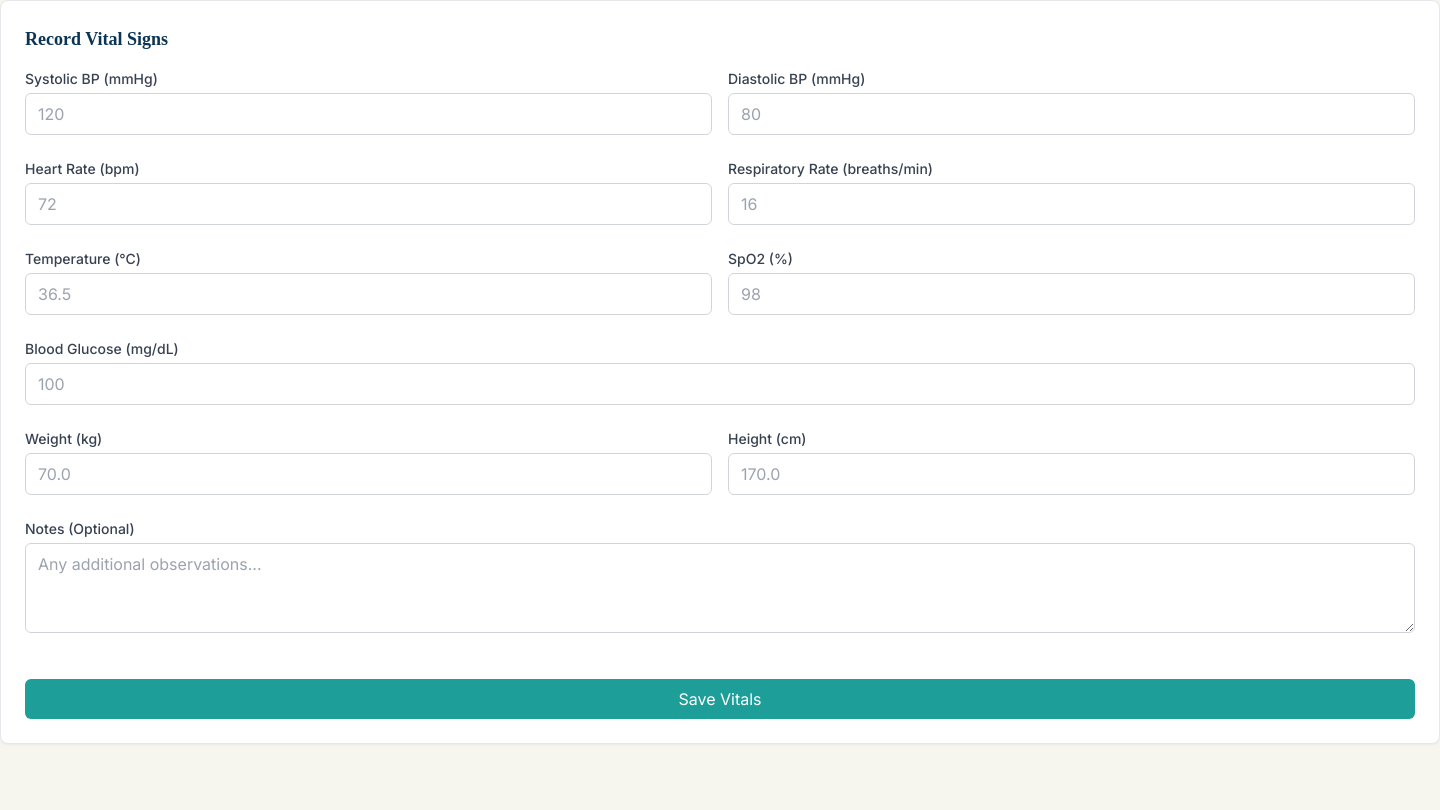
Test: VitalsEntryForm › BMI calculation › shows calculated BMI when weight and height provided
The width and height of the screenshot is (1440, 810).
In the number field with placeholder "70.0": (368, 474) [25,453,712,495], type "70"
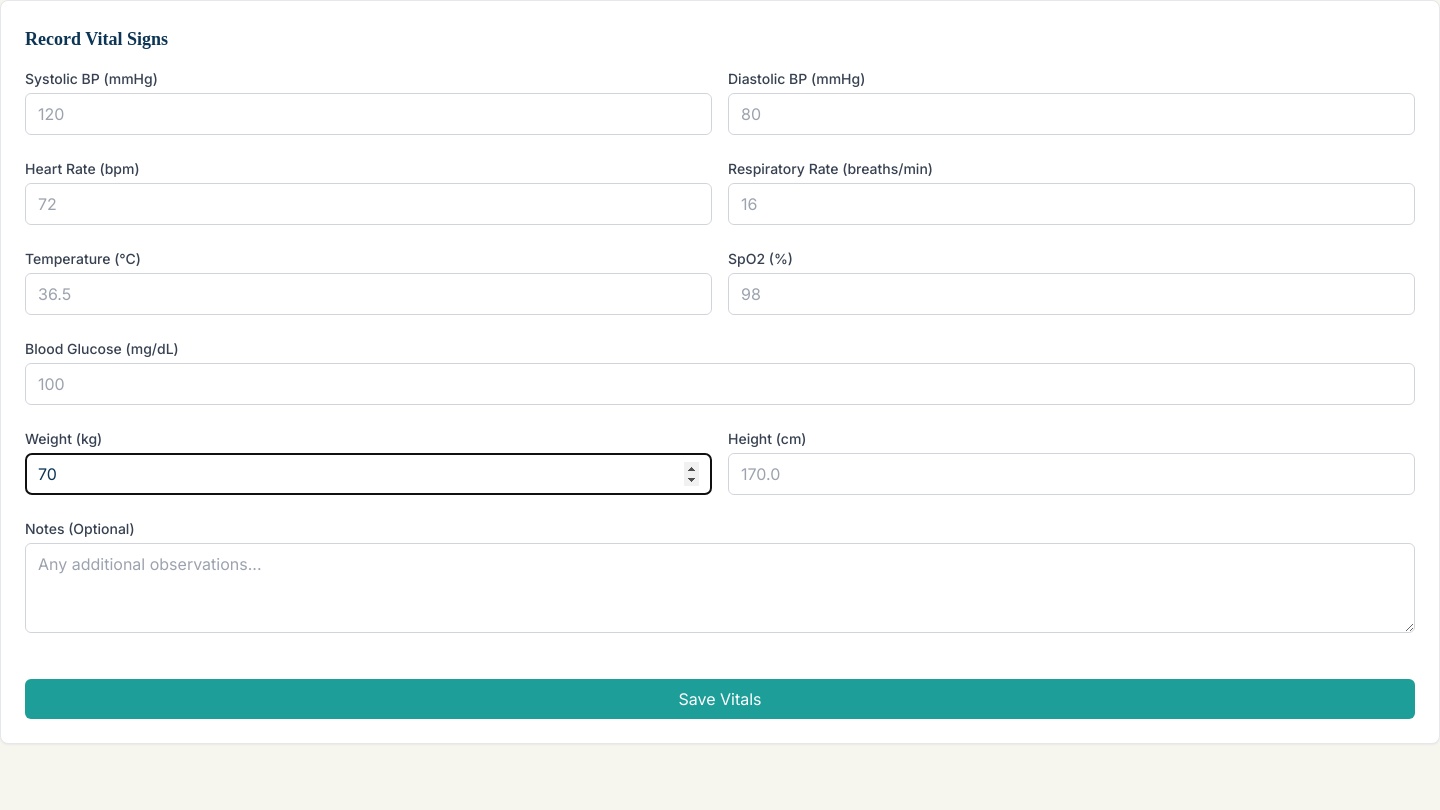
In the number field with placeholder "170.0": (1072, 474) [728,453,1415,495], type "175"
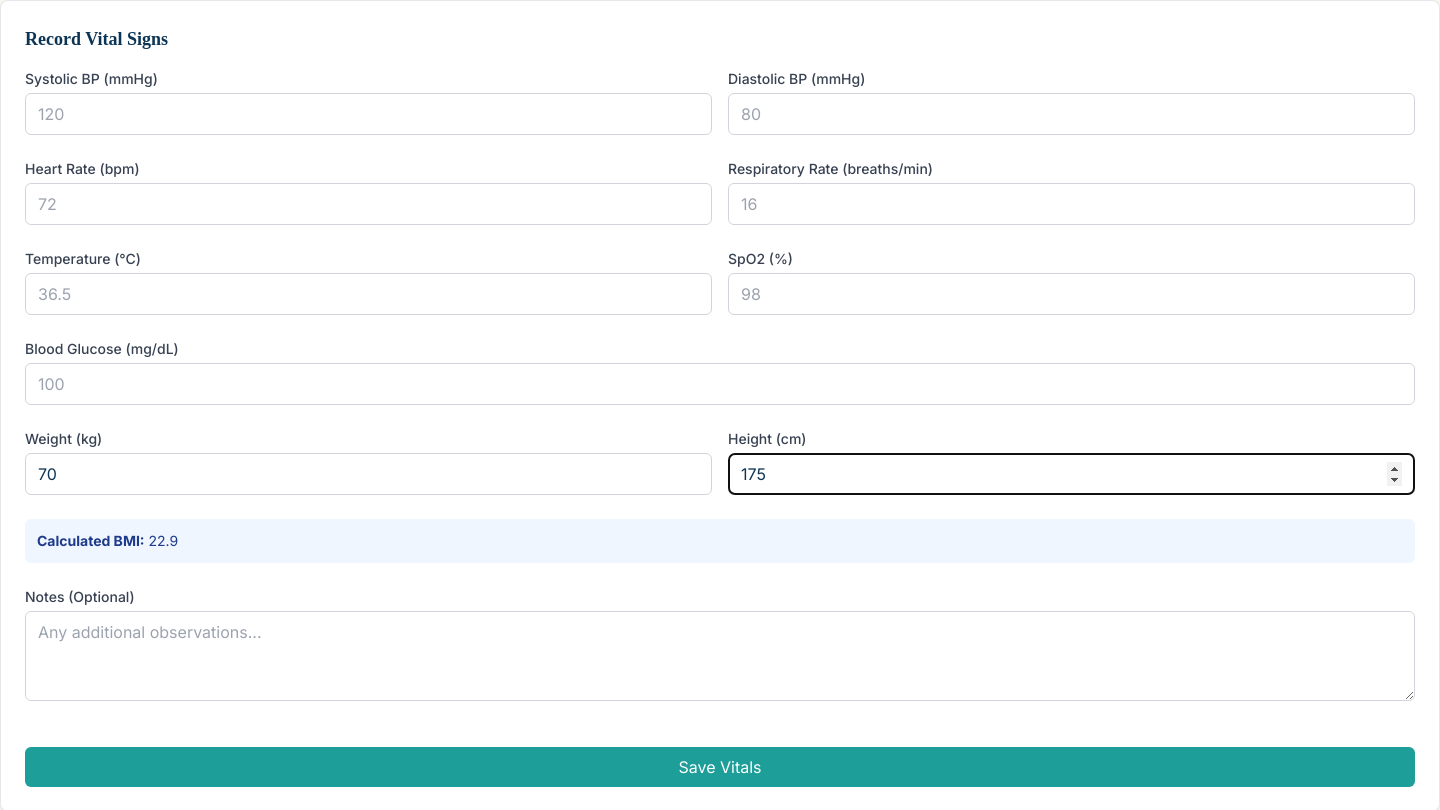
Result: the text "Calculated BMI:" is shown at [37,532,144,549]
